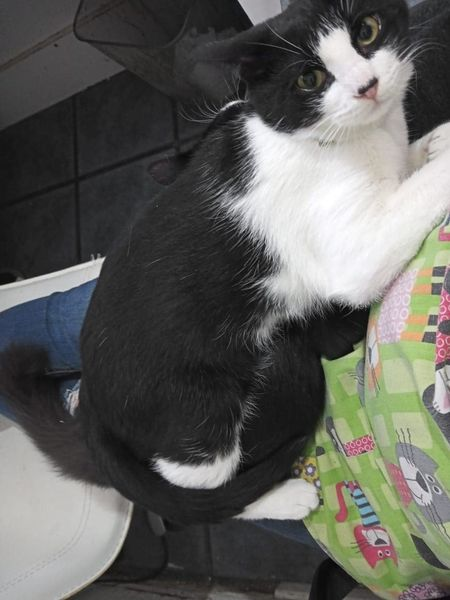cat: (2, 1, 442, 539)
